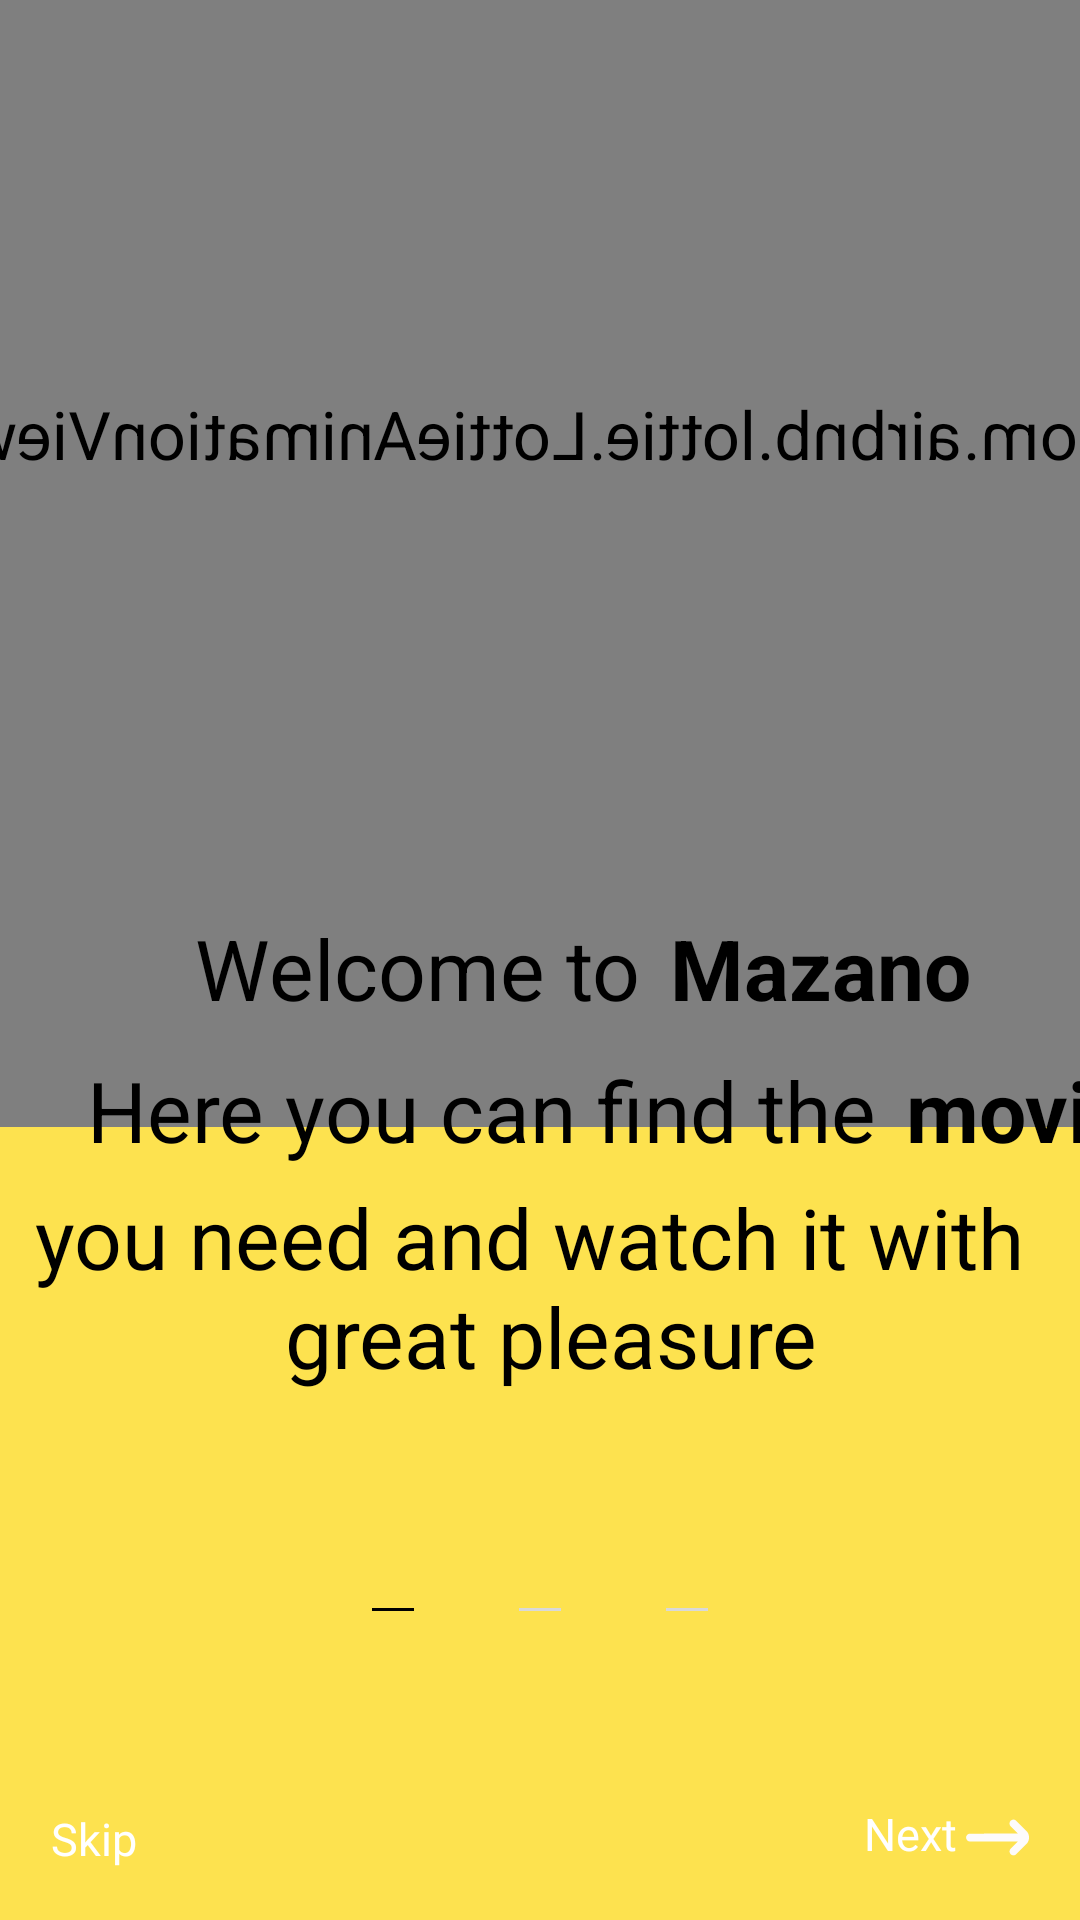

Icon click points for this 1080x1920 phone screenshot, format (x=x, y=y):
arrow right: (x=997, y=1837)
